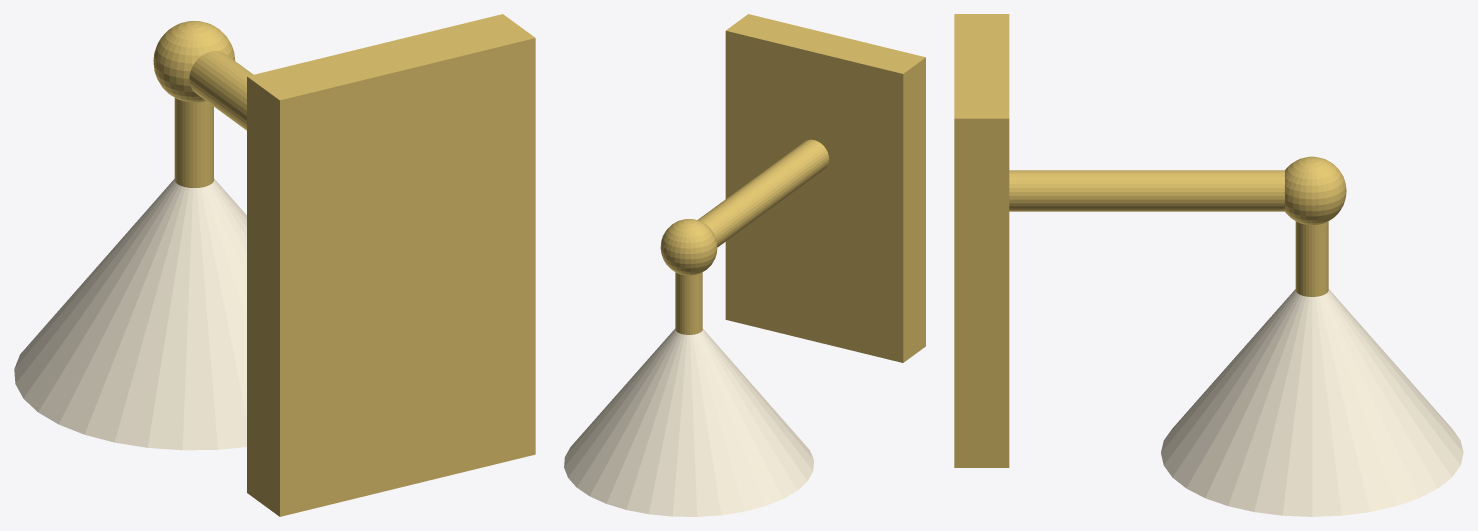
File: lamp9.glb
The picture shows the model from 3 angles, left to right: view 1: azimuth 30°, elevation 25°; view 2: azimuth 150°, elevation 25°; view 3: azimuth 270°, elevation 25°; orthographic projection. The views are drawn at different scales.
Visible parts, largest first — view 1: L9_WallPlate, L9_Shade, L9_Joint, L9_Neck, L9_Arm; view 2: L9_WallPlate, L9_Shade, L9_Arm, L9_Joint, L9_Neck; view 3: L9_Shade, L9_WallPlate, L9_Arm, L9_Joint, L9_Neck.
Boxes of the visible parts, box(x1,y1,x2,y2) form: L9_WallPlate: box(247, 14, 535, 516); L9_Shade: box(14, 178, 246, 450); L9_Joint: box(153, 21, 235, 102); L9_Neck: box(174, 98, 213, 187); L9_Arm: box(189, 51, 253, 130); L9_WallPlate: box(725, 14, 925, 362); L9_Shade: box(564, 328, 813, 516); L9_Arm: box(697, 139, 828, 247); L9_Joint: box(660, 219, 717, 275); L9_Neck: box(675, 272, 702, 334); L9_Shade: box(1161, 289, 1463, 516); L9_WallPlate: box(954, 14, 1009, 467); L9_Arm: box(1009, 170, 1284, 211); L9_Joint: box(1284, 156, 1346, 225); L9_Neck: box(1295, 221, 1328, 296).
Bounding box in the file's own units: 0.22 × 0.31 × 0.37.
